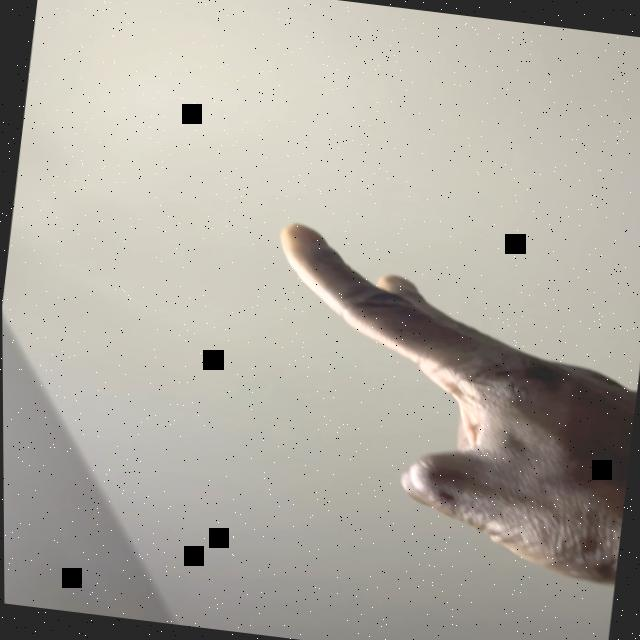Scissors: (239, 217, 640, 584)
